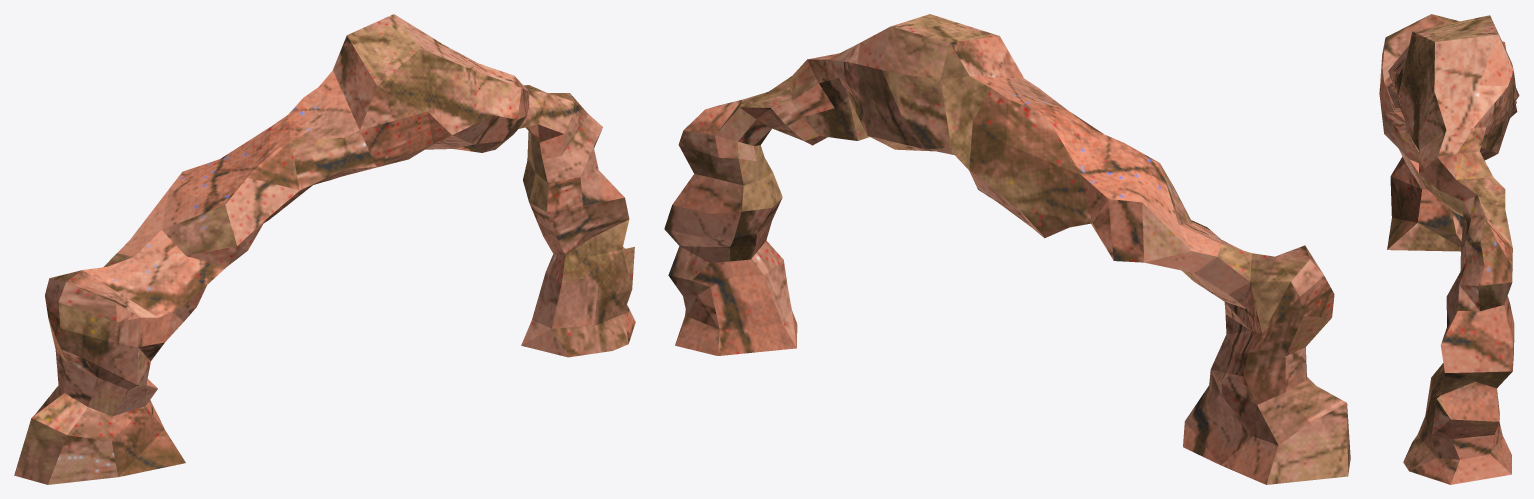
File: Cliff_Medium_Standard.fbx
3 views of the same model, side by side, from view 1: azimuth 30°, elevation 25°; view 2: azimuth 150°, elevation 25°; view 3: azimuth 270°, elevation 25° (orthographic). The views are drawn at different scales.
Visible parts, largest first — view 1: Cliff_Medium_Standard; view 2: Cliff_Medium_Standard; view 3: Cliff_Medium_Standard.
Boxes of the visible parts, <box> form: Cliff_Medium_Standard: <box>14,14,635,484</box>; Cliff_Medium_Standard: <box>664,14,1350,484</box>; Cliff_Medium_Standard: <box>1379,14,1519,484</box>.
Size of the model in its own units: 19.97 by 10.53 by 3.89.
